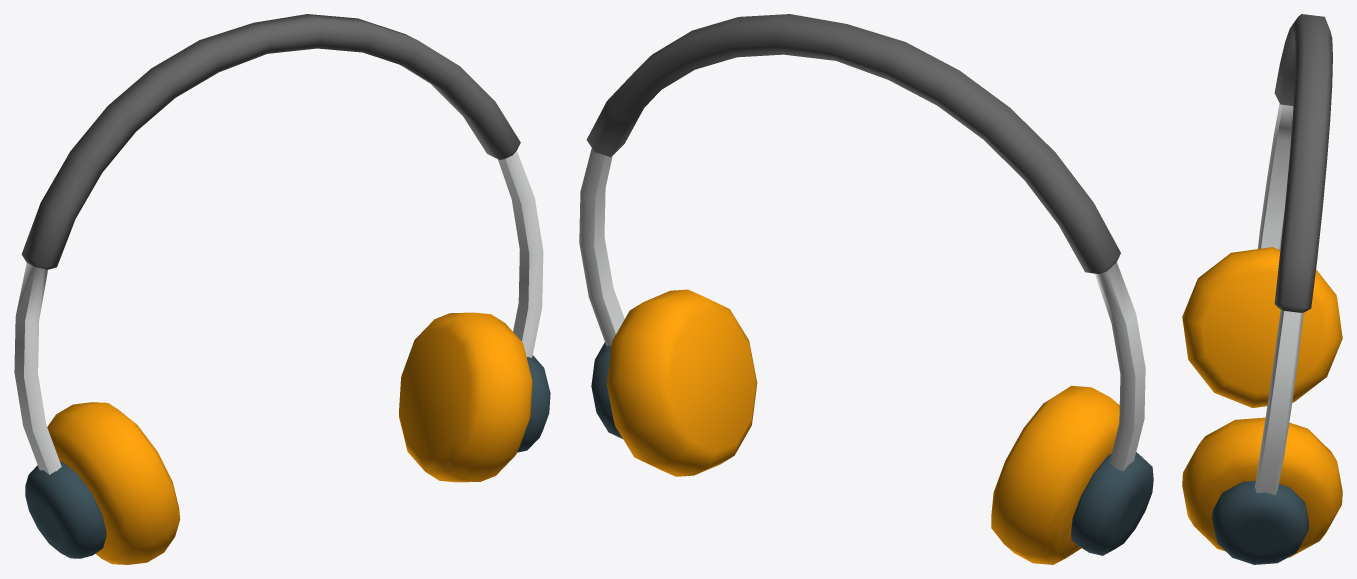
File: Audio_002.fbx
The picture shows the model from 3 angles, left to right: view 1: azimuth 30°, elevation 25°; view 2: azimuth 150°, elevation 25°; view 3: azimuth 270°, elevation 25°; orthographic projection. The views are drawn at different scales.
Parts seen in each view (by area): view 1: Audio_002; view 2: Audio_002; view 3: Audio_002.
Boxes of the visible parts, left/top/right/bottom form: Audio_002: left=14, top=14, right=550, bottom=564; Audio_002: left=579, top=14, right=1153, bottom=564; Audio_002: left=1182, top=14, right=1342, bottom=564.
Size of the model in its own units: 25.59 by 7.4 by 22.25.
